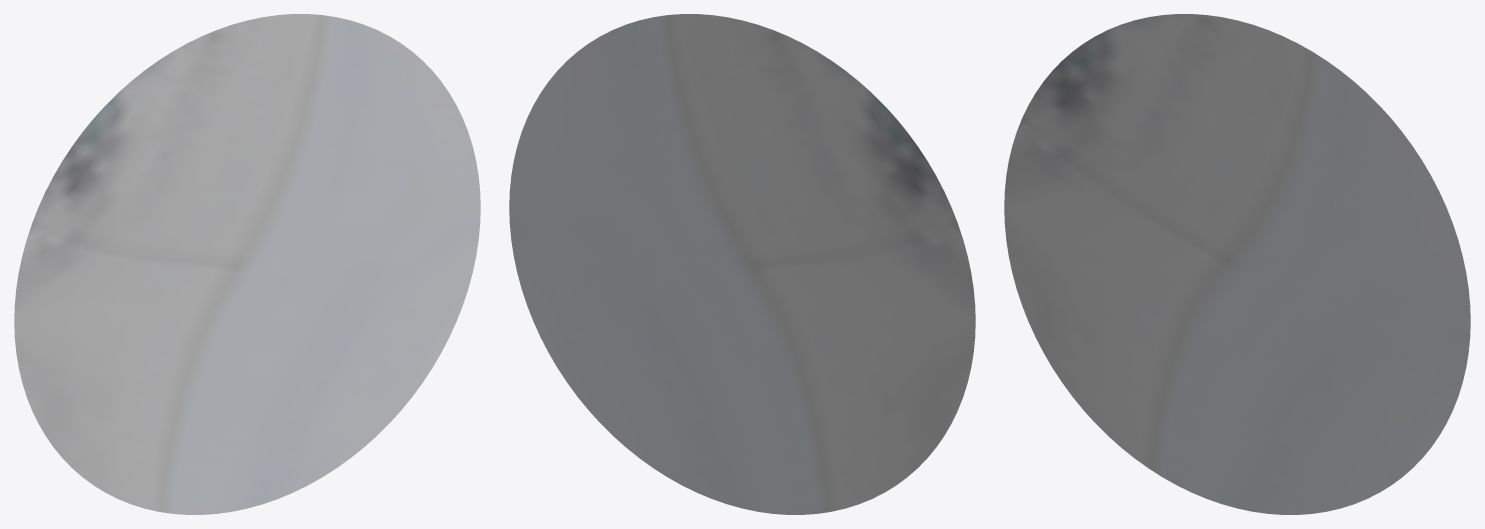
The model's file is lscm_earth.obj.
The picture shows the model from 3 angles, left to right: view 1: azimuth 30°, elevation 25°; view 2: azimuth 150°, elevation 25°; view 3: azimuth 330°, elevation 25°; orthographic projection.
Visible parts, largest first — view 1: material_export; view 2: material_export; view 3: material_export.
Boxes of the visible parts, box(x1,y1,x2,y2) form: material_export: box(14, 14, 480, 514); material_export: box(509, 14, 975, 514); material_export: box(1004, 14, 1470, 514).
Size of the model in its own units: 2 by 2 by 0.
Materials: 1 (1 with a texture image).
